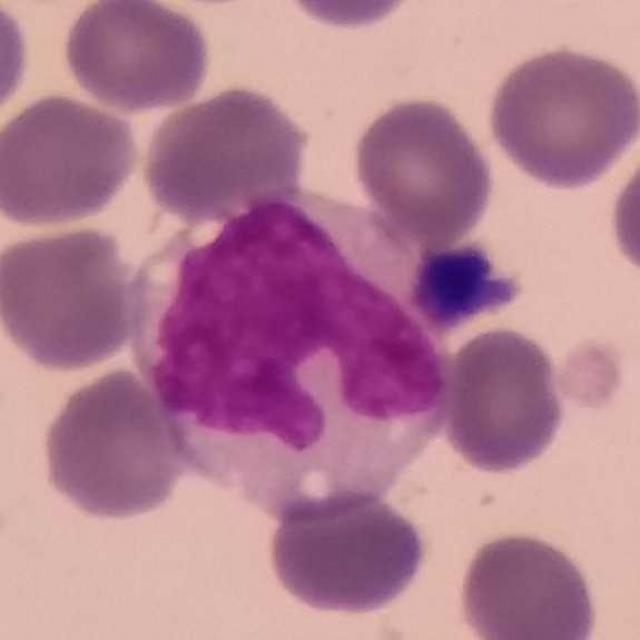mono: (118, 184, 461, 533)
